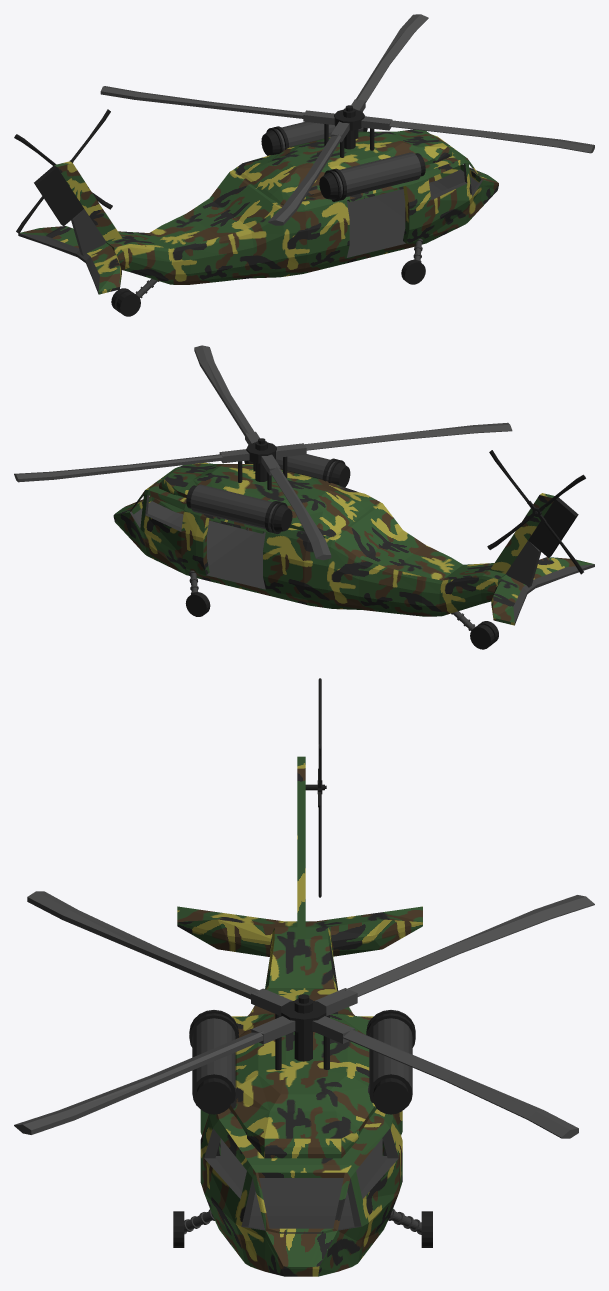
The model's file is blackhawk.obj.
3 views of the same model, one above another, from view 1: azimuth 30°, elevation 25°; view 2: azimuth 150°, elevation 25°; view 3: azimuth 270°, elevation 25° (orthographic). The views are drawn at different scales.
Parts seen in each view (by area): view 1: cube1, cube8, cylinder9, cube6, user defined16, user defined18, user defined17, cylinder10, user defined15, user defined23, cylinder14, cylinder2 (+1 smaller); view 2: cube1, cube8, cylinder10, cube6, user defined17, user defined15, user defined16, cylinder9, user defined18, user defined23, cylinder14, cylinder13 (+1 smaller); view 3: cube1, cube8, cube6, user defined18, user defined15, user defined16, user defined17, cylinder9, cylinder10, cylinder14, user defined23.
Part boxes in pixels (bbox=[...]): cube1: bbox=[34, 134, 498, 284]; cube8: bbox=[235, 129, 452, 205]; cylinder9: bbox=[319, 152, 425, 201]; cube6: bbox=[18, 226, 121, 294]; user defined16: bbox=[100, 86, 334, 124]; user defined18: bbox=[361, 116, 594, 153]; user defined17: bbox=[268, 121, 349, 225]; cylinder10: bbox=[261, 113, 367, 155]; user defined15: bbox=[351, 14, 428, 111]; user defined23: bbox=[14, 109, 112, 233]; cylinder14: bbox=[334, 105, 364, 149]; cylinder2: bbox=[401, 259, 425, 284]; cube1: bbox=[113, 466, 578, 616]; cube8: bbox=[159, 462, 376, 538]; cylinder10: bbox=[186, 484, 292, 533]; cube6: bbox=[491, 557, 594, 625]; user defined17: bbox=[276, 422, 512, 457]; user defined15: bbox=[14, 449, 249, 482]; user defined16: bbox=[261, 454, 331, 560]; cylinder9: bbox=[244, 454, 350, 487]; user defined18: bbox=[194, 345, 259, 444]; user defined23: bbox=[487, 450, 585, 574]; cylinder14: bbox=[246, 438, 276, 481]; cylinder13: bbox=[470, 624, 494, 649]; cube1: bbox=[200, 756, 402, 1276]; cube8: bbox=[229, 1014, 376, 1158]; cube6: bbox=[177, 906, 422, 956]; user defined18: bbox=[14, 1016, 295, 1134]; user defined15: bbox=[312, 1016, 578, 1138]; user defined16: bbox=[315, 895, 594, 1016]; user defined17: bbox=[27, 891, 292, 1016]; cylinder9: bbox=[189, 1010, 238, 1114]; cylinder10: bbox=[366, 1010, 415, 1114]; cylinder14: bbox=[281, 994, 326, 1061]; user defined23: bbox=[305, 678, 326, 897].
Size of the model in its own units: 1615 by 637 by 1077.
4 materials, 4 textured.
